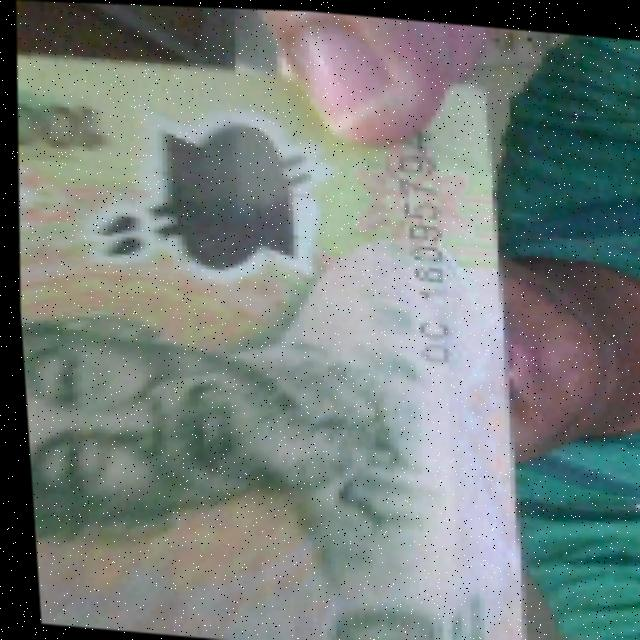100 000 VND: (2, 39, 543, 640)
